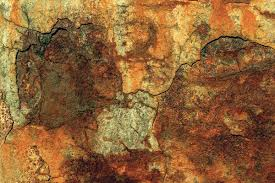rust: (144, 24, 275, 180), (8, 18, 123, 137), (50, 129, 236, 183)
